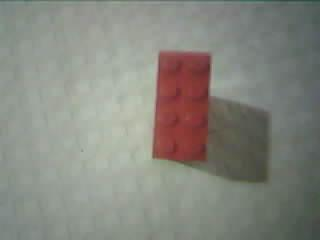lego: (150, 48, 213, 160)
